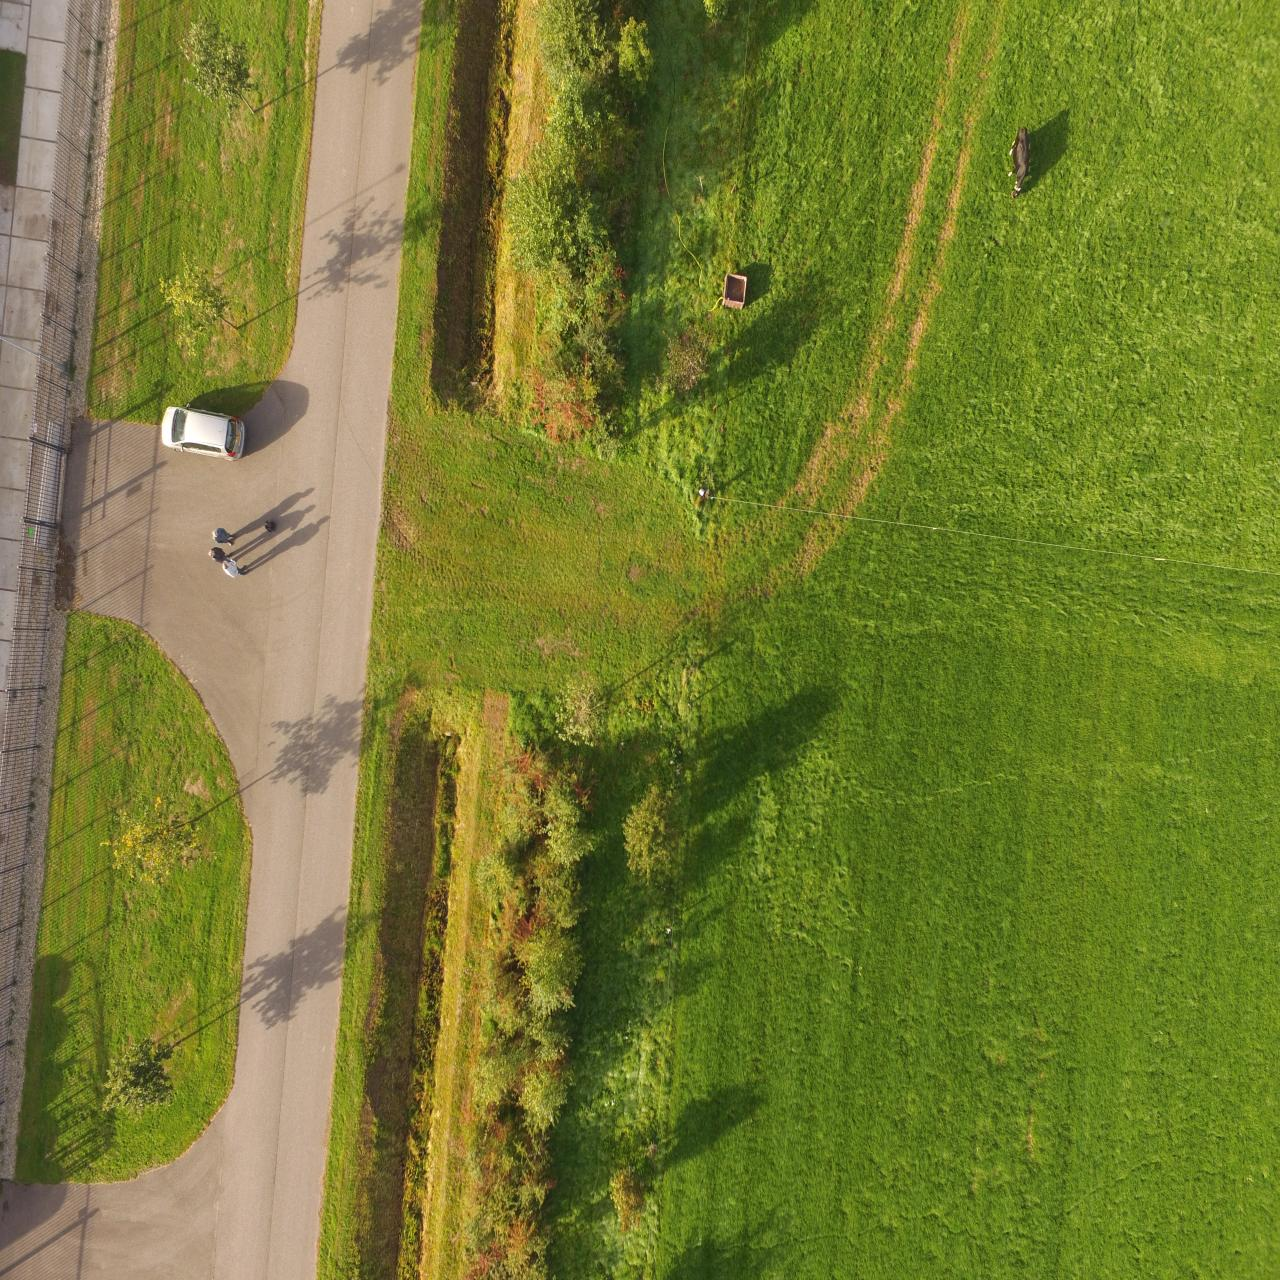cow: (1007, 122, 1033, 200)
